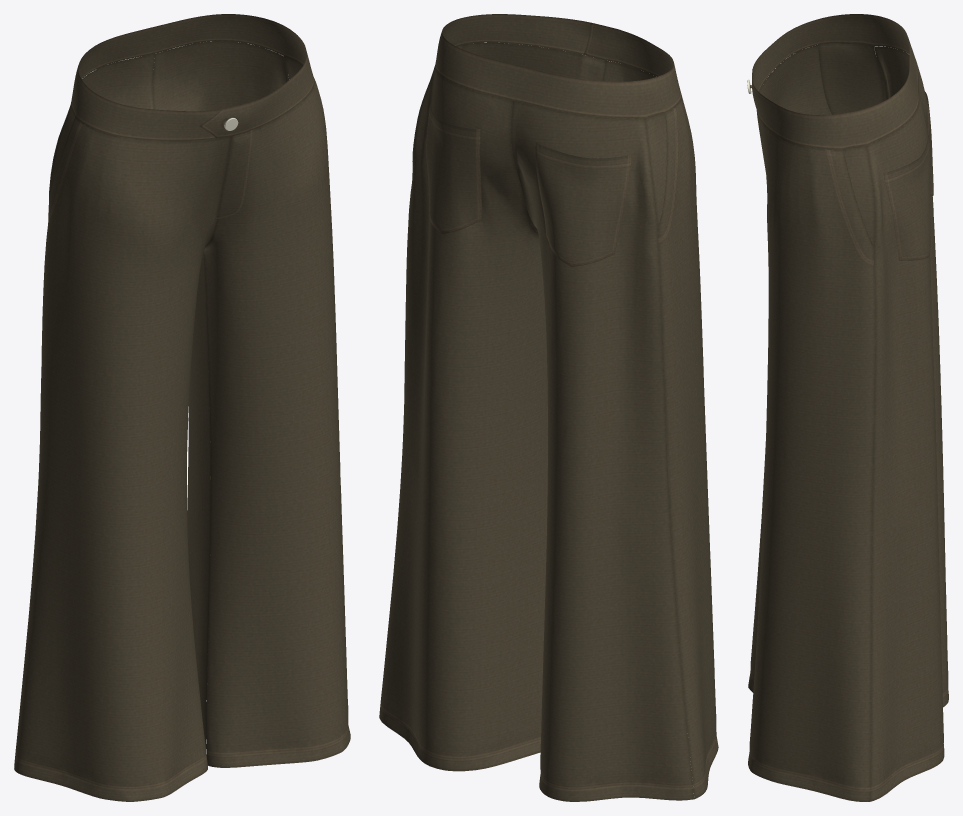
The model's file is women_fashionable_woven_pant.glb.
The picture shows the model from 3 angles, left to right: view 1: azimuth 30°, elevation 25°; view 2: azimuth 150°, elevation 25°; view 3: azimuth 270°, elevation 25°; orthographic projection. The views are drawn at different scales.
Visible parts, largest first — view 1: FRONT_1X3_22, FRONT_1X2_20, BACK_1X3_4, EXTRA_WAIST_14, BACK_1X2_2; view 2: BACK_1X3_4, BACK_1X2_2, FRONT_1X3_22, EXTRA_WAIST_14, BK_PKT_1X4_8, BK_PKT_1X2_6, FRONT_1X2_20, F_PKT_SAME_1X3_18; view 3: FRONT_1X2_20, BACK_1X3_4, EXTRA_WAIST_14, BACK_1X2_2, FRONT_1X3_22, BK_PKT_1X2_6, F_PKT_SAME_1X3_18, F_PKT_SAME_1X2_16.
Boxes of the visible parts, box(x1,y1,x2,y2) form: FRONT_1X3_22: box(14, 117, 231, 801); FRONT_1X2_20: box(203, 78, 350, 767); BACK_1X3_4: box(153, 41, 289, 757); EXTRA_WAIST_14: box(71, 14, 314, 140); BACK_1X2_2: box(33, 53, 155, 563); BACK_1X3_4: box(379, 65, 547, 771); BACK_1X2_2: box(511, 101, 694, 801); FRONT_1X3_22: box(602, 60, 718, 799); EXTRA_WAIST_14: box(435, 14, 681, 118); BK_PKT_1X4_8: box(535, 142, 632, 266); BK_PKT_1X2_6: box(426, 104, 482, 233); FRONT_1X2_20: box(379, 42, 602, 711); F_PKT_SAME_1X3_18: box(645, 101, 680, 224); FRONT_1X2_20: box(748, 110, 875, 801); BACK_1X3_4: box(867, 90, 944, 801); EXTRA_WAIST_14: box(752, 14, 918, 149); BACK_1X2_2: box(874, 46, 948, 707); FRONT_1X3_22: box(748, 43, 848, 692); BK_PKT_1X2_6: box(883, 131, 930, 260); F_PKT_SAME_1X3_18: box(818, 43, 883, 114); F_PKT_SAME_1X2_16: box(811, 145, 875, 247).
Bounding box in the file's own units: 19.84 × 41.28 × 11.19.
1 material, 1 textured.
